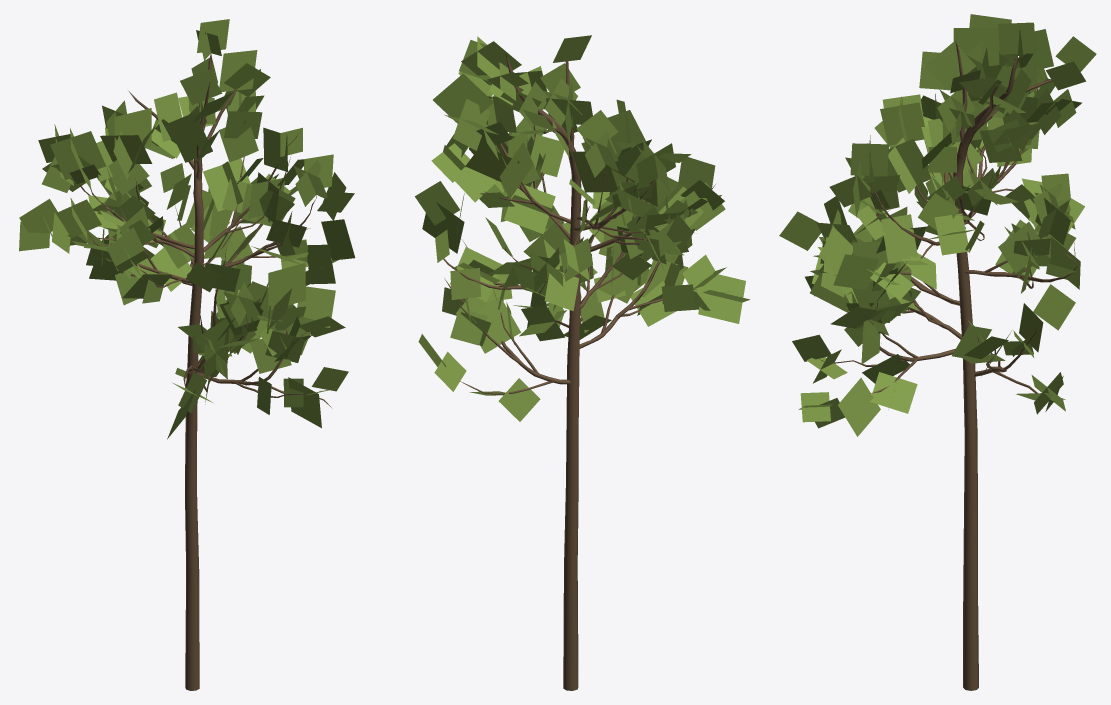
File: meadow-aspen-a.lod1.glb
3 views of the same model, side by side, from view 1: azimuth 30°, elevation 25°; view 2: azimuth 150°, elevation 25°; view 3: azimuth 270°, elevation 25° (orthographic). The views are drawn at different scales.
Parts seen in each view (by area): view 1: leaves, bark; view 2: leaves, bark; view 3: leaves, bark.
Boxes of the visible parts, x1=… form: leaves: x1=19, y1=19, x2=355, y2=439; bark: x1=77, y1=53, x2=332, y2=690; leaves: x1=415, y1=35, x2=750, y2=421; bark: x1=443, y1=54, x2=715, y2=690; leaves: x1=779, y1=14, x2=1096, y2=436; bark: x1=819, y1=39, x2=1076, y2=690.
Bounding box in the file's own units: 32.08 × 68.42 × 28.59.
